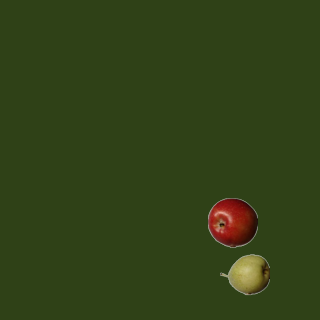Apple Braeburn: (207, 197, 257, 247)
Pear: (219, 249, 269, 299)
